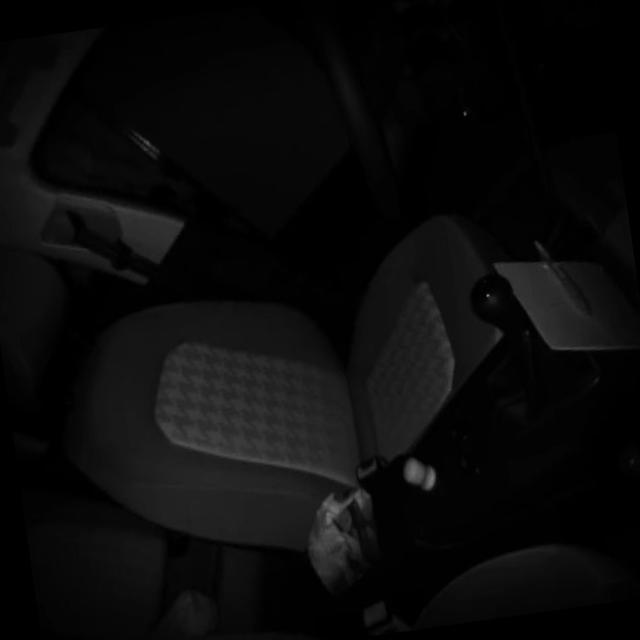pen: (530, 228, 598, 330)
